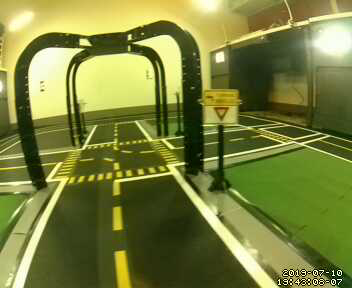Turn Yield: (202, 89, 237, 125)
